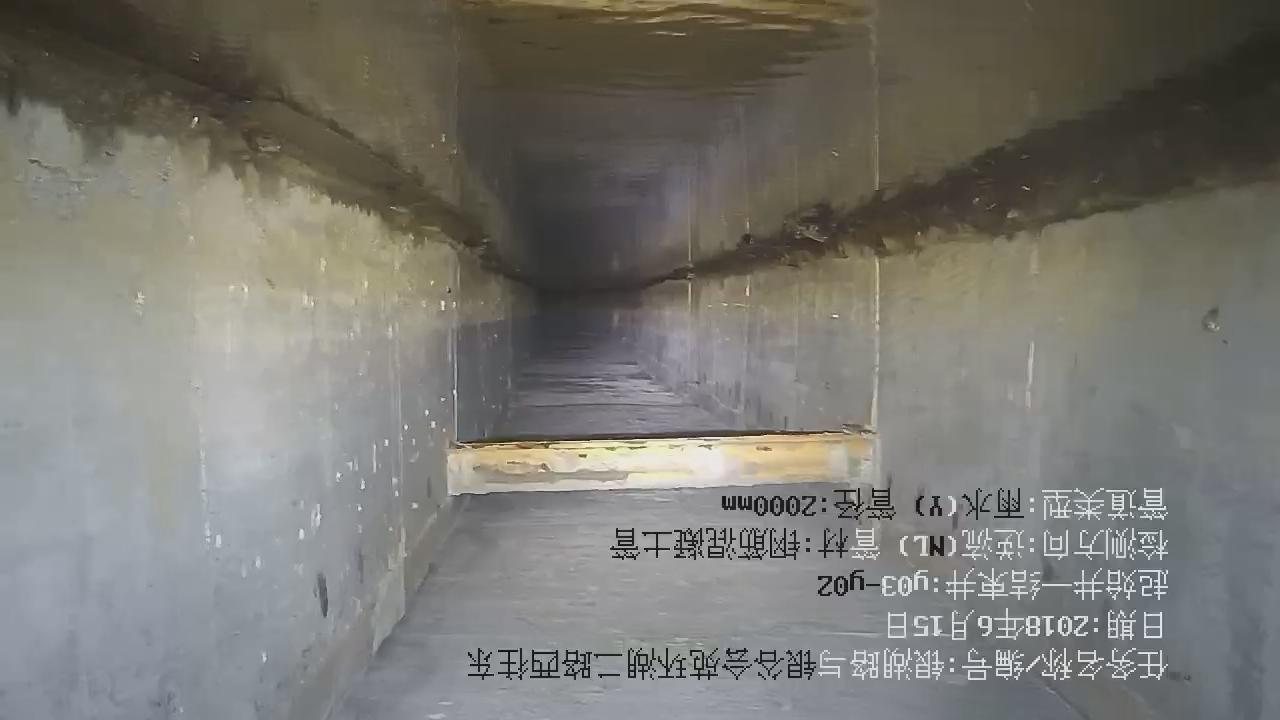YWCR: (448, 432, 880, 495)
